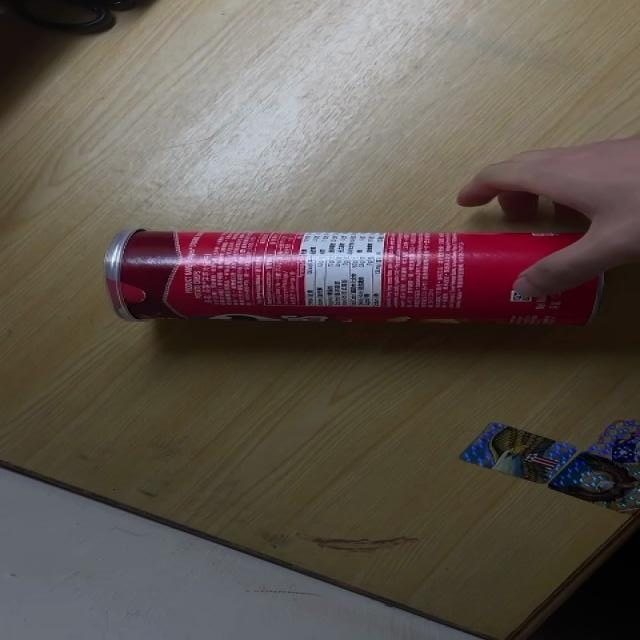Pringles: (105, 226, 612, 324)
